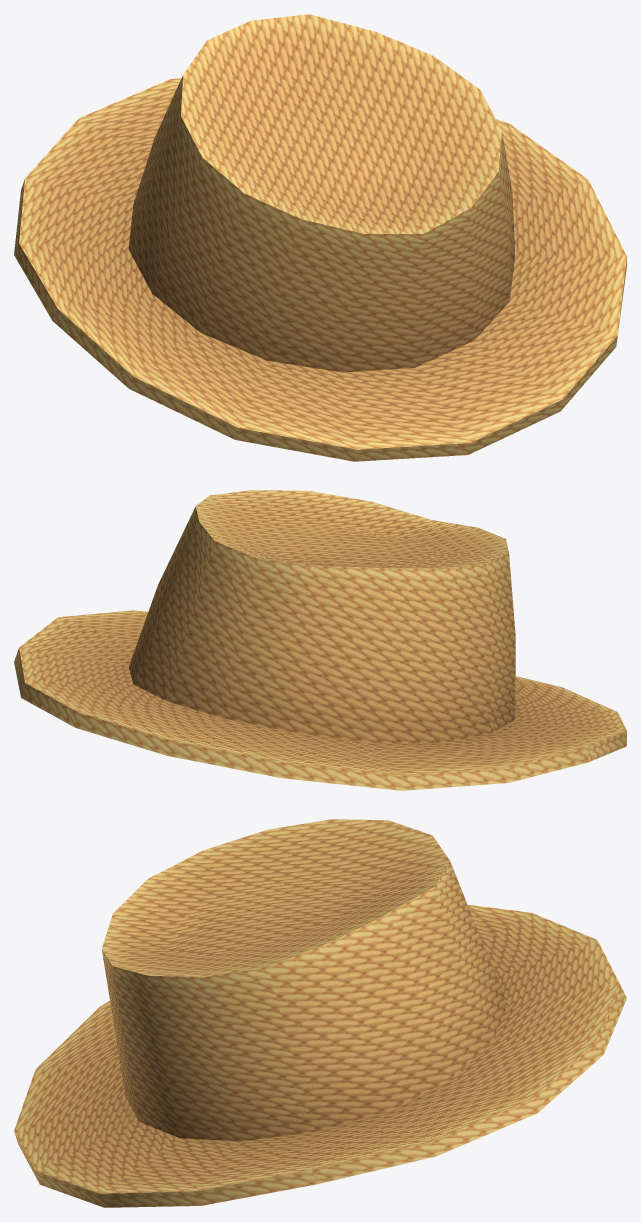
Rendered from IG_Helmat_Island_Straw.fbx.
3 views of the same model, one above another, from view 1: azimuth 30°, elevation 25°; view 2: azimuth 150°, elevation 25°; view 3: azimuth 270°, elevation 25° (orthographic).
Visible parts, largest first — view 1: Helmets_Strawhat; view 2: Helmets_Strawhat; view 3: Helmets_Strawhat.
Boxes of the visible parts, <box> form: Helmets_Strawhat: <box>14,14,626,461</box>; Helmets_Strawhat: <box>14,490,626,790</box>; Helmets_Strawhat: <box>14,819,626,1207</box>.
Bounding box in the file's own units: 0.8012 × 0.398 × 0.7845.
